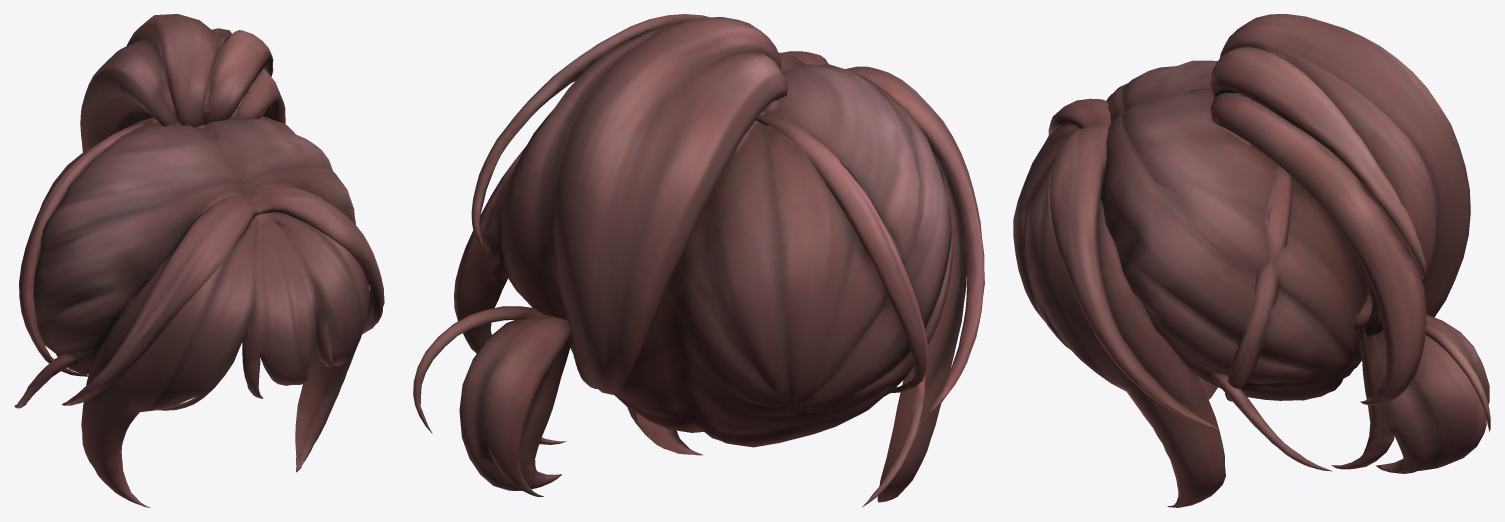
File: hair_1_ponytail.glb
3 renders of one model, left to right at view 1: azimuth 30°, elevation 25°; view 2: azimuth 150°, elevation 25°; view 3: azimuth 270°, elevation 25°, orthographic. The views are drawn at different scales.
Visible parts, largest first — view 1: Hair_1_ponytail; view 2: Hair_1_ponytail; view 3: Hair_1_ponytail.
Boxes of the visible parts, x1,y1,x2,y2 form: Hair_1_ponytail: (14,14,384,507); Hair_1_ponytail: (413,14,984,507); Hair_1_ponytail: (1013,14,1490,507).
Size of the model in its own units: 0.5194 by 0.63 by 0.5988.
Materials: 1 (1 with a texture image).
